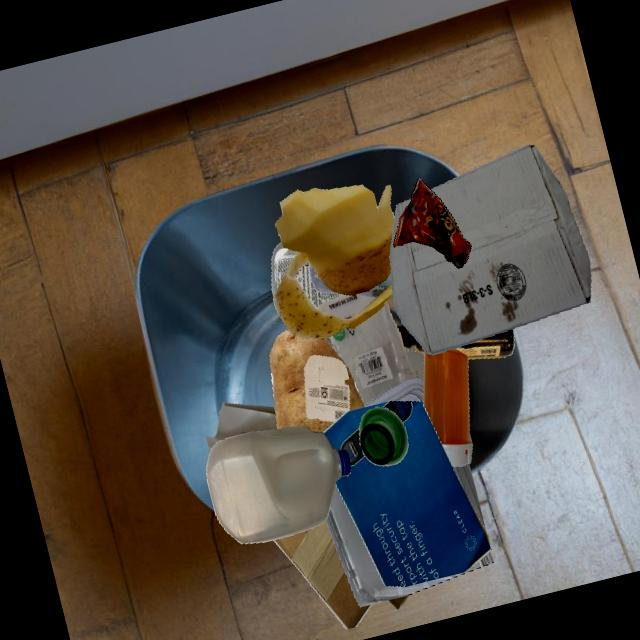biowaste: (274, 184, 394, 339), (269, 329, 364, 432)
cardboard: (389, 144, 591, 354), (273, 519, 371, 629)
glass: (359, 406, 408, 465), (452, 328, 514, 358), (396, 324, 424, 353)
paper: (322, 401, 491, 586), (205, 402, 277, 452), (304, 354, 349, 421), (405, 350, 424, 380)
plastic: (325, 483, 494, 607), (206, 426, 350, 543), (329, 300, 415, 404), (423, 349, 472, 466), (309, 270, 388, 299), (295, 269, 344, 309), (271, 241, 298, 313), (309, 262, 336, 292), (367, 271, 391, 294), (320, 290, 367, 296)
trash: (393, 178, 471, 268)
